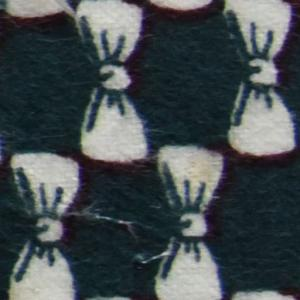Damage: (12, 189, 189, 276)
